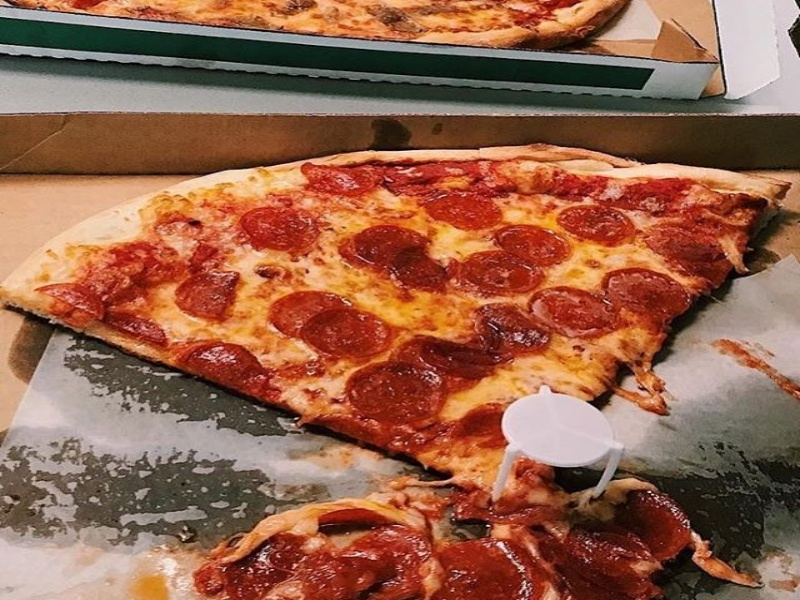peperoni: (345, 364, 444, 422), (528, 285, 623, 340), (300, 307, 393, 363), (238, 204, 321, 262), (341, 222, 430, 274), (600, 267, 690, 318), (472, 303, 551, 356), (461, 250, 543, 298), (643, 221, 734, 263), (556, 201, 638, 245), (495, 224, 568, 273), (172, 269, 239, 321), (425, 189, 505, 231), (303, 161, 382, 197)
